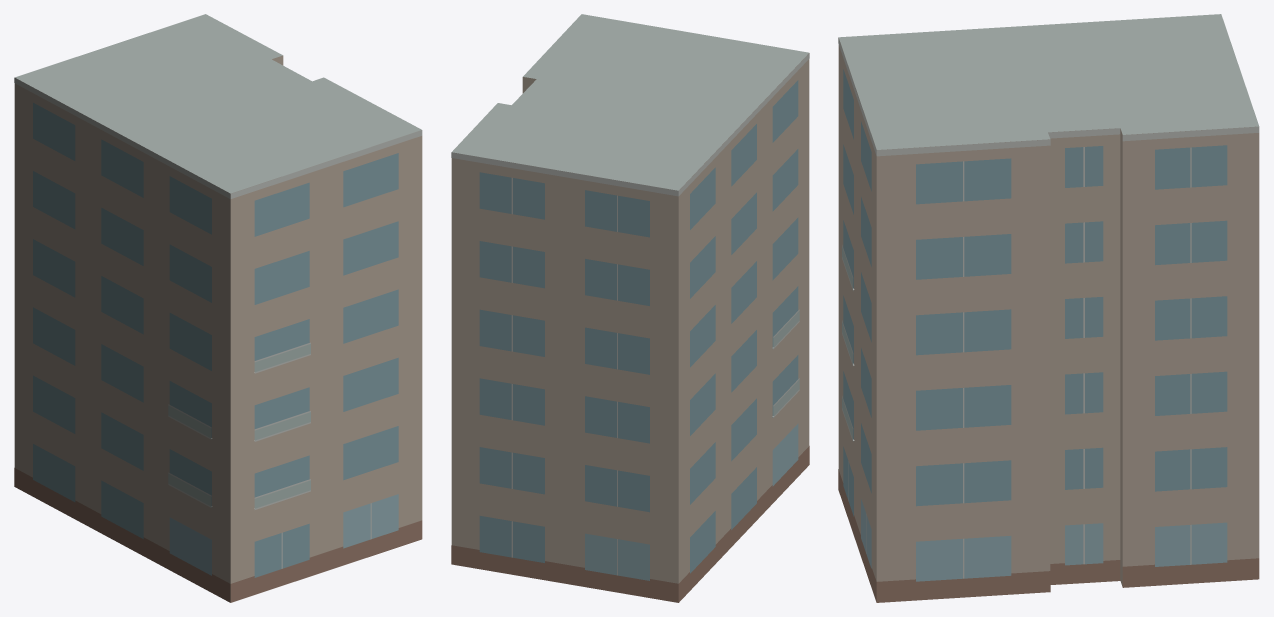
The model's file is survey-upis-32576166.glb.
3 views of the same model, side by side, from view 1: azimuth 30°, elevation 25°; view 2: azimuth 150°, elevation 25°; view 3: azimuth 270°, elevation 25° (orthographic). The views are drawn at different scales.
Visible parts, largest first — view 1: survey-upis-32576166.tmp; view 2: survey-upis-32576166.tmp; view 3: survey-upis-32576166.tmp.
Boxes of the visible parts, x1=… form: survey-upis-32576166.tmp: x1=14, y1=14, x2=422, y2=602; survey-upis-32576166.tmp: x1=451, y1=14, x2=809, y2=602; survey-upis-32576166.tmp: x1=838, y1=14, x2=1259, y2=602.
Size of the model in its own units: 11.32 by 17.55 by 14.79.
